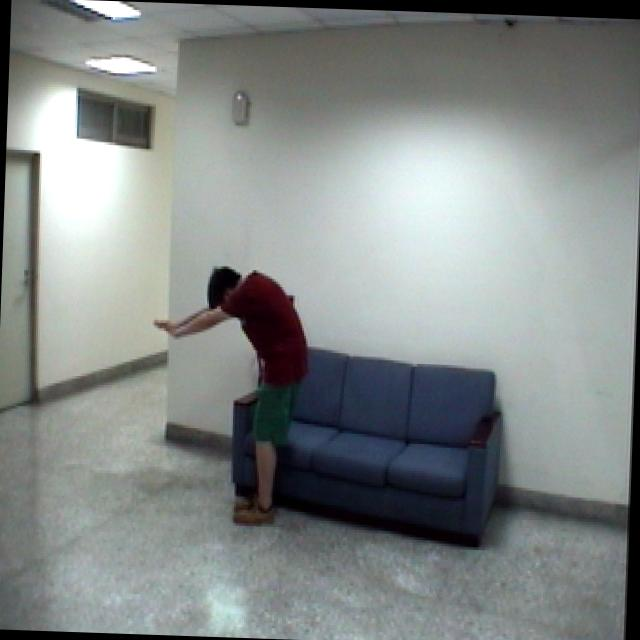bend: (146, 252, 314, 534)
